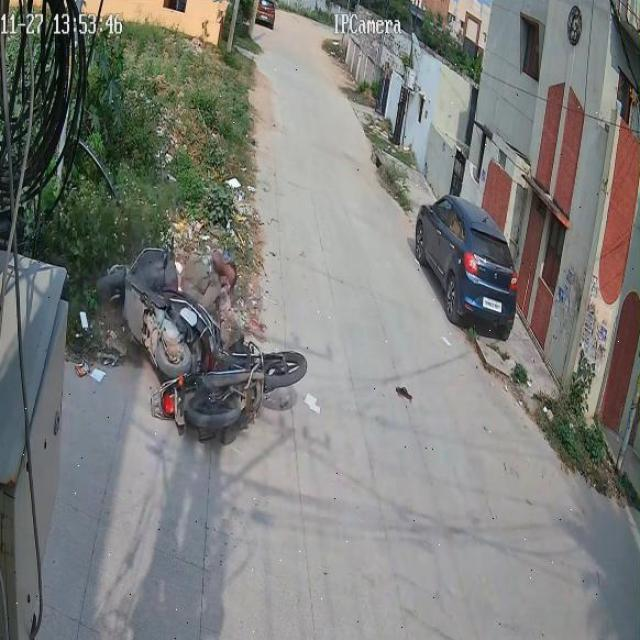accident: (76, 200, 240, 356), (154, 346, 308, 442)
